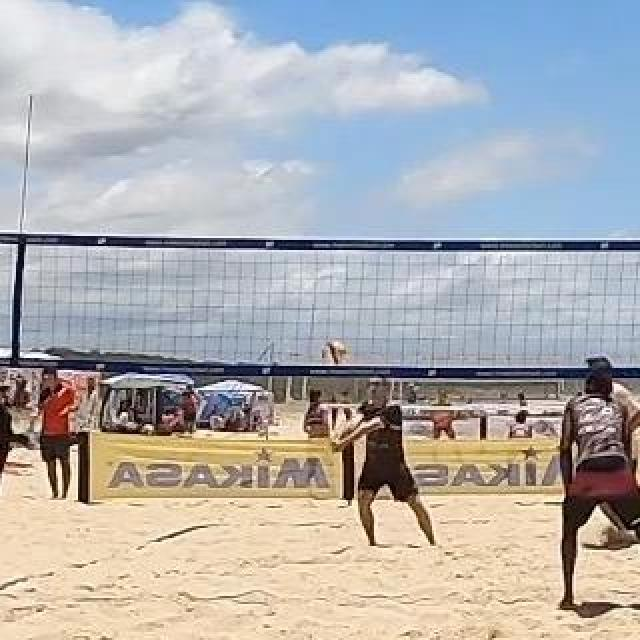volleyball: (322, 340, 346, 364)
